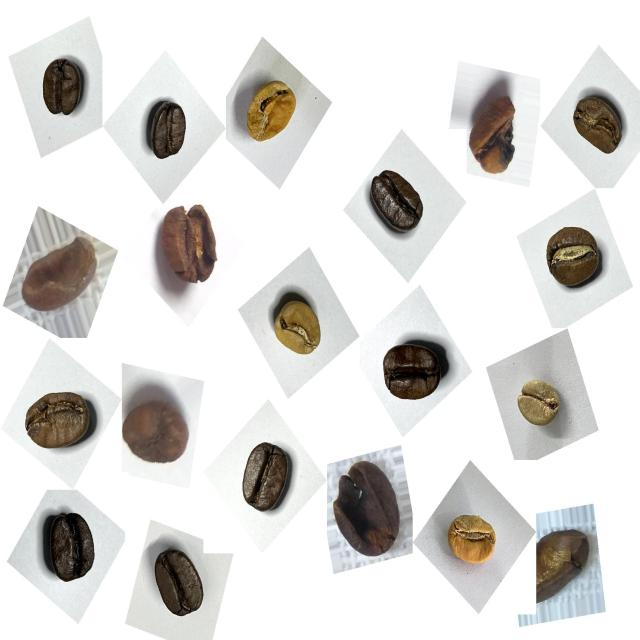bad: (322, 450, 408, 569), (112, 374, 198, 481), (456, 75, 531, 190), (17, 228, 103, 326), (153, 193, 227, 292), (528, 515, 596, 607)
dark: (372, 324, 456, 414), (34, 502, 108, 598), (364, 159, 438, 249), (148, 536, 218, 628), (133, 89, 198, 171), (31, 45, 93, 127)
green: (509, 366, 573, 442)
light: (236, 69, 310, 159), (258, 282, 332, 371), (436, 503, 508, 582)
medium: (227, 431, 303, 520), (19, 382, 100, 462), (536, 215, 610, 300), (564, 85, 632, 164)
